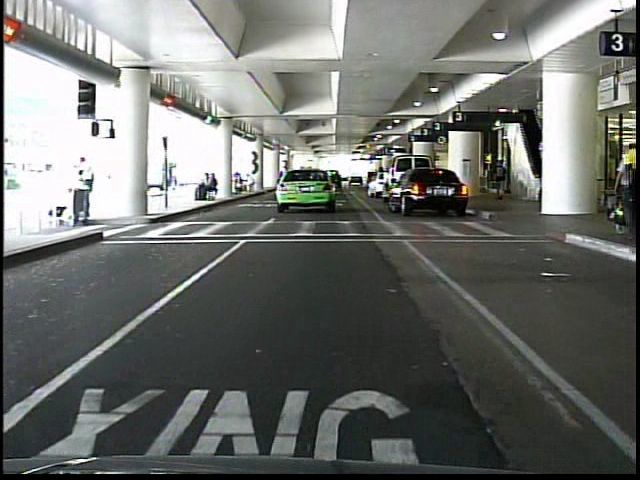person: (72, 154, 105, 231), (492, 159, 508, 203)
